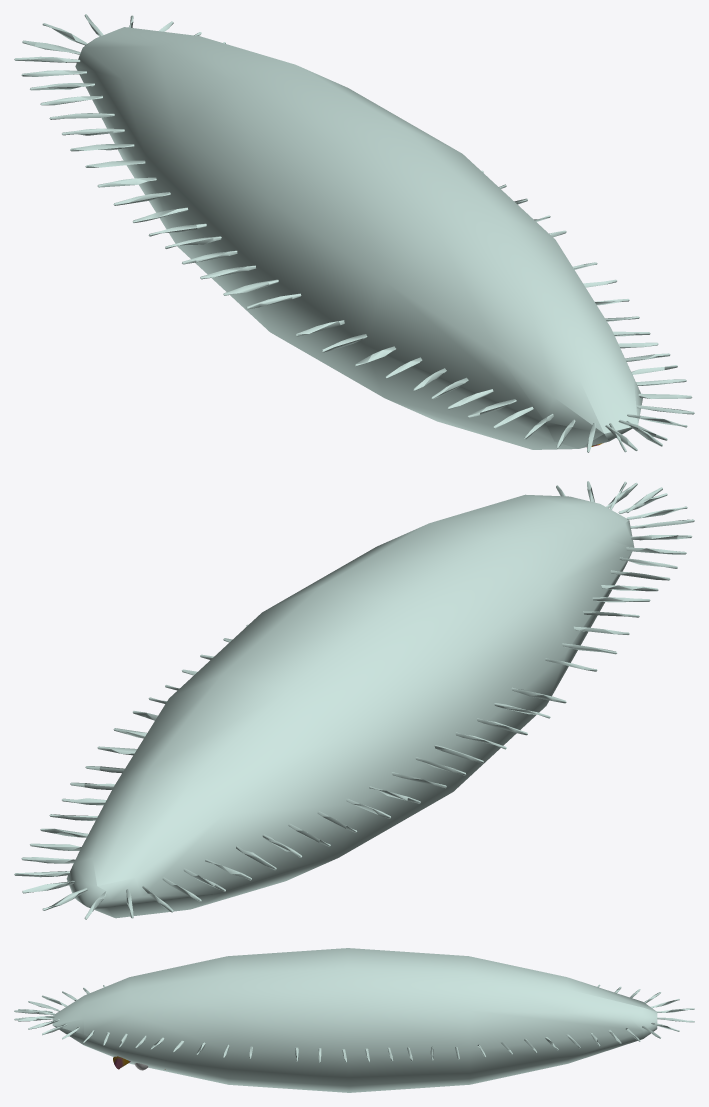
File: Paramecium example 1.fbx
3 renders of one model, top to bottom at view 1: azimuth 30°, elevation 25°; view 2: azimuth 150°, elevation 25°; view 3: azimuth 270°, elevation 25°, orthographic. The views are drawn at different scales.
Parts seen in each view (by area): view 1: cytoplasm_001:food_inside_vaccule3; view 2: cytoplasm_001:food_inside_vaccule3; view 3: cytoplasm_001:food_inside_vaccule3.
Part boxes in pixels (x1=…): cytoplasm_001:food_inside_vaccule3: x1=14, y1=14, x2=694, y2=452; cytoplasm_001:food_inside_vaccule3: x1=14, y1=481, x2=694, y2=919; cytoplasm_001:food_inside_vaccule3: x1=14, y1=948, x2=694, y2=1092.
Bounding box in the file's own units: 6.61 × 4.11 × 20.42.
